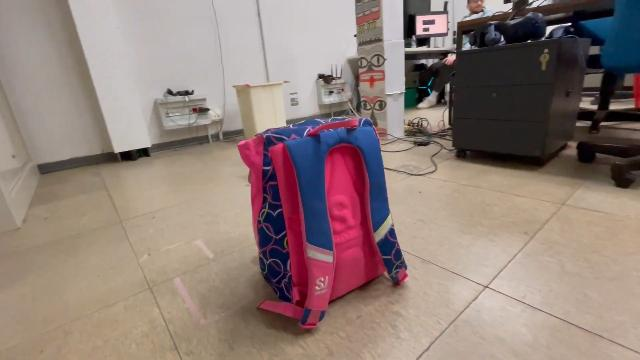Backpack: (230, 111, 416, 337)
